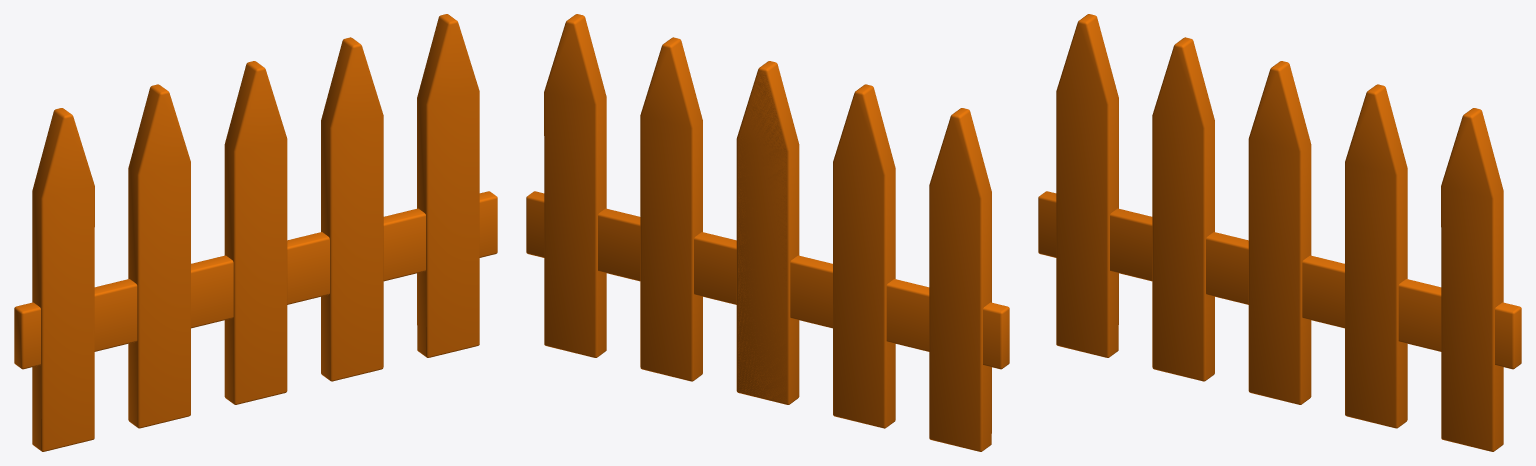
Rendered from Fence old_Cvl_26-09.fbx.
3 views of the same model, side by side, from view 1: azimuth 30°, elevation 25°; view 2: azimuth 150°, elevation 25°; view 3: azimuth 330°, elevation 25° (orthographic).
Visible parts, largest first — view 1: Cube; view 2: Cube; view 3: Cube.
Boxes of the visible parts, box(x1,y1,x2,y2) form: Cube: box(14, 14, 497, 451); Cube: box(526, 14, 1009, 451); Cube: box(1038, 14, 1521, 451).
Size of the model in its own units: 230 by 153 by 9.17.
